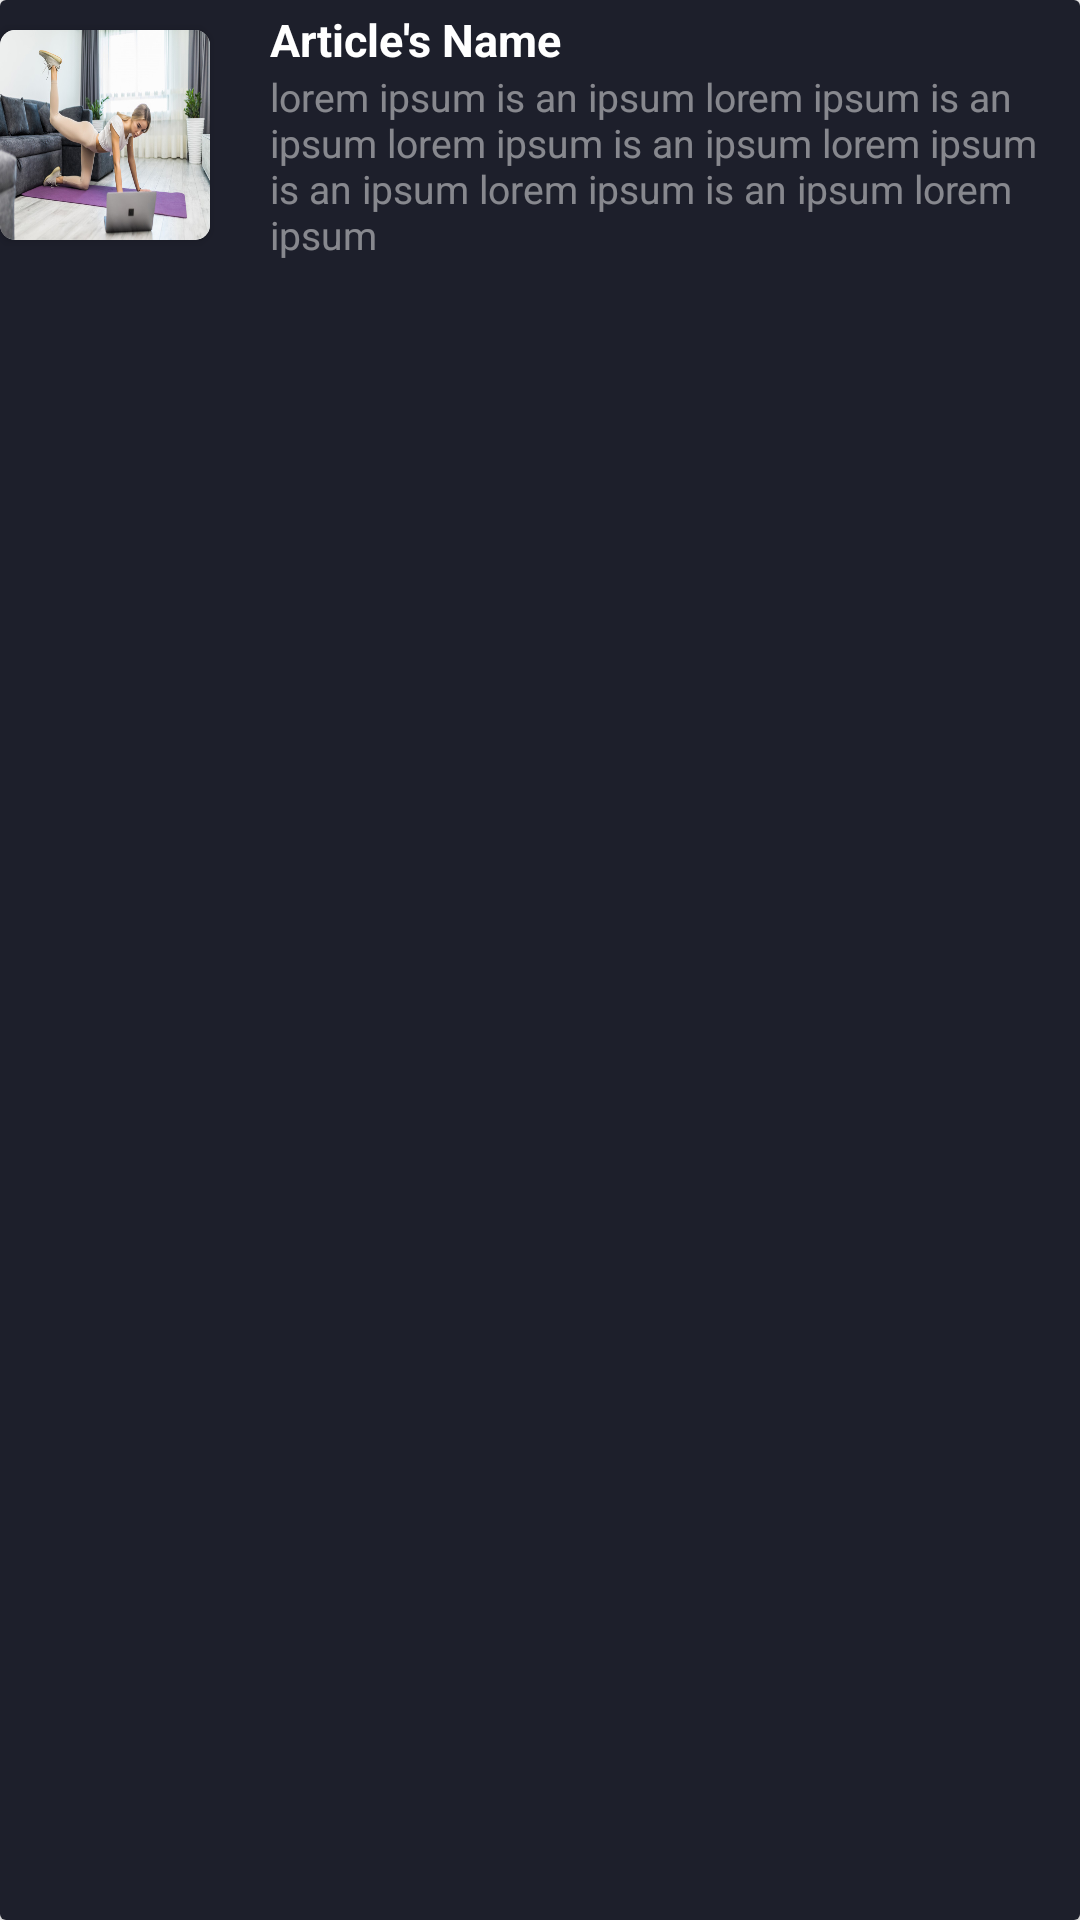

Where to tap for icons on this 1080 x 1920 app screen, as (x=x, y=y):
workout card: (x=105, y=135)
